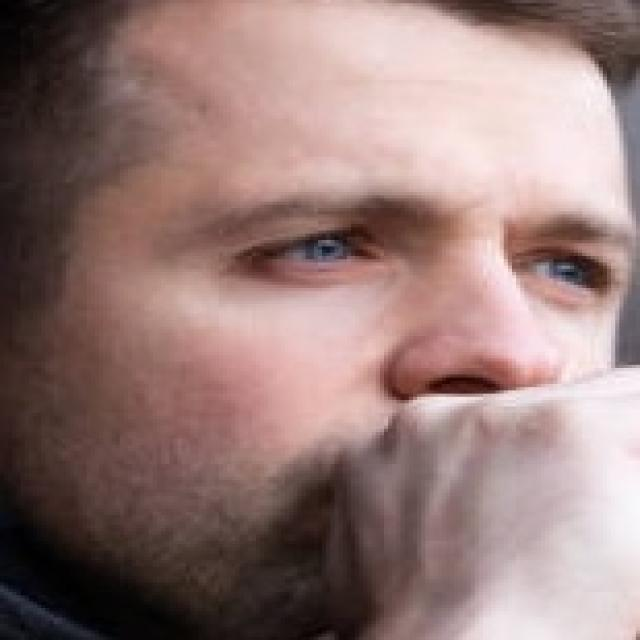Anxiety: (35, 5, 636, 637)
